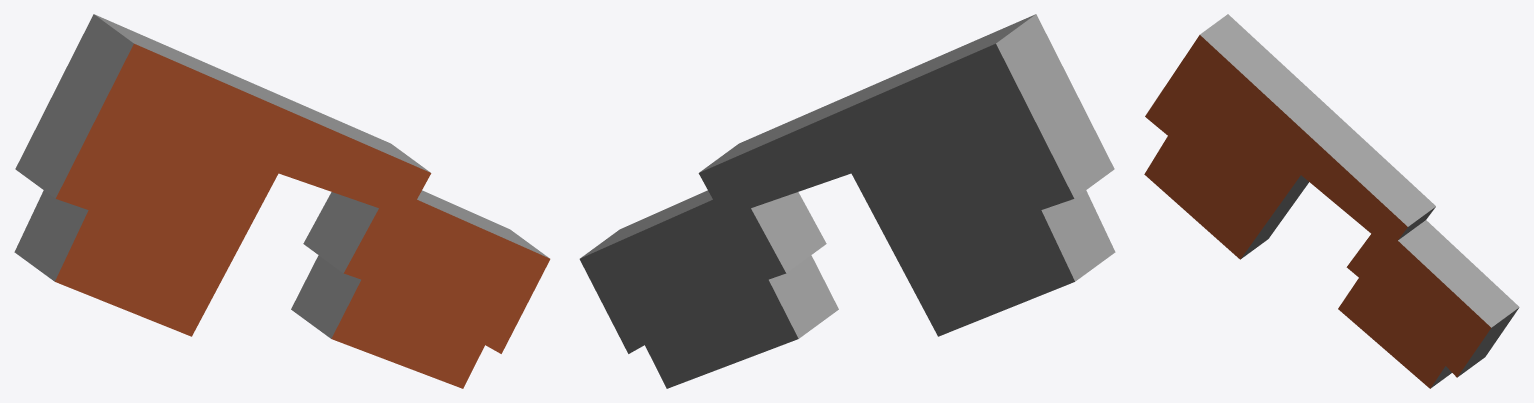
Rendered from construction_2294_assumed_A_Casa_h6m.obj.
The picture shows the model from 3 angles, left to right: view 1: azimuth 30°, elevation 25°; view 2: azimuth 150°, elevation 25°; view 3: azimuth 330°, elevation 25°; orthographic projection. The views are drawn at different scales.
Visible parts, largest first — view 1: construction_2294_assumed_A_Casa; view 2: construction_2294_assumed_A_Casa; view 3: construction_2294_assumed_A_Casa.
Boxes of the visible parts, x1,y1,x2,y2 form: construction_2294_assumed_A_Casa: (14,14,550,388); construction_2294_assumed_A_Casa: (579,14,1115,388); construction_2294_assumed_A_Casa: (1144,14,1519,388).
Bounding box in the file's own units: 42.54 × 34.91 × 6.
